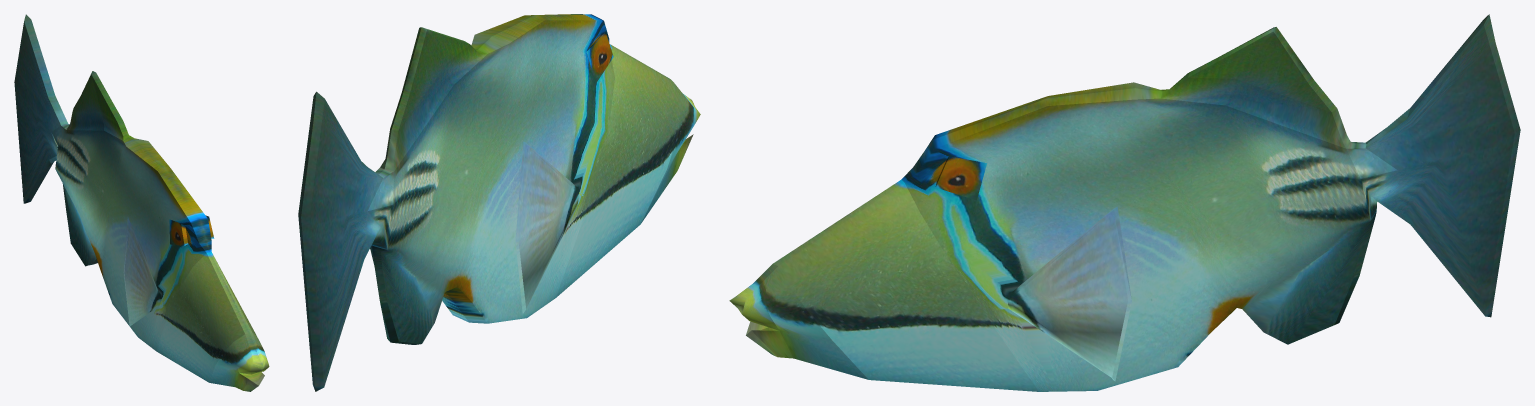
Rendered from parrotfish.fbx.
The picture shows the model from 3 angles, left to right: view 1: azimuth 30°, elevation 25°; view 2: azimuth 150°, elevation 25°; view 3: azimuth 270°, elevation 25°; orthographic projection. The views are drawn at different scales.
Parts seen in each view (by area): view 1: tropicalFishMaya2008:parrotfish; view 2: tropicalFishMaya2008:parrotfish; view 3: tropicalFishMaya2008:parrotfish.
Part boxes in pixels (x1=…): tropicalFishMaya2008:parrotfish: x1=14, y1=14, x2=269, y2=391; tropicalFishMaya2008:parrotfish: x1=298, y1=14, x2=700, y2=391; tropicalFishMaya2008:parrotfish: x1=729, y1=14, x2=1520, y2=391.
Bounding box in the file's own units: 1.87 × 12.69 × 24.44.
